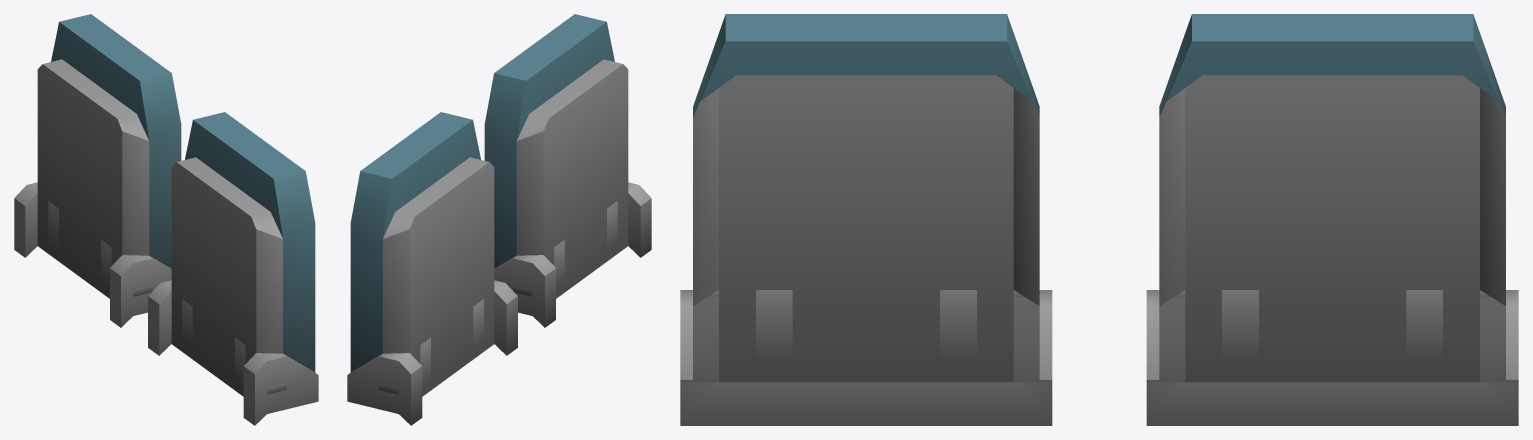
File: bus_seats_folded_mdl.fbx
3 renders of one model, left to right at view 1: azimuth 30°, elevation 25°; view 2: azimuth 150°, elevation 25°; view 3: azimuth 270°, elevation 25°, orthographic. The views are drawn at different scales.
Visible parts, largest first — view 1: busSeats_folded; view 2: busSeats_folded; view 3: busSeats_folded.
Boxes of the visible parts, x1,y1,x2,y2 form: busSeats_folded: [14, 14, 318, 425]; busSeats_folded: [347, 14, 651, 425]; busSeats_folded: [680, 14, 1518, 425].
Bounding box in the file's own units: 15.85 × 54.48 × 103.
